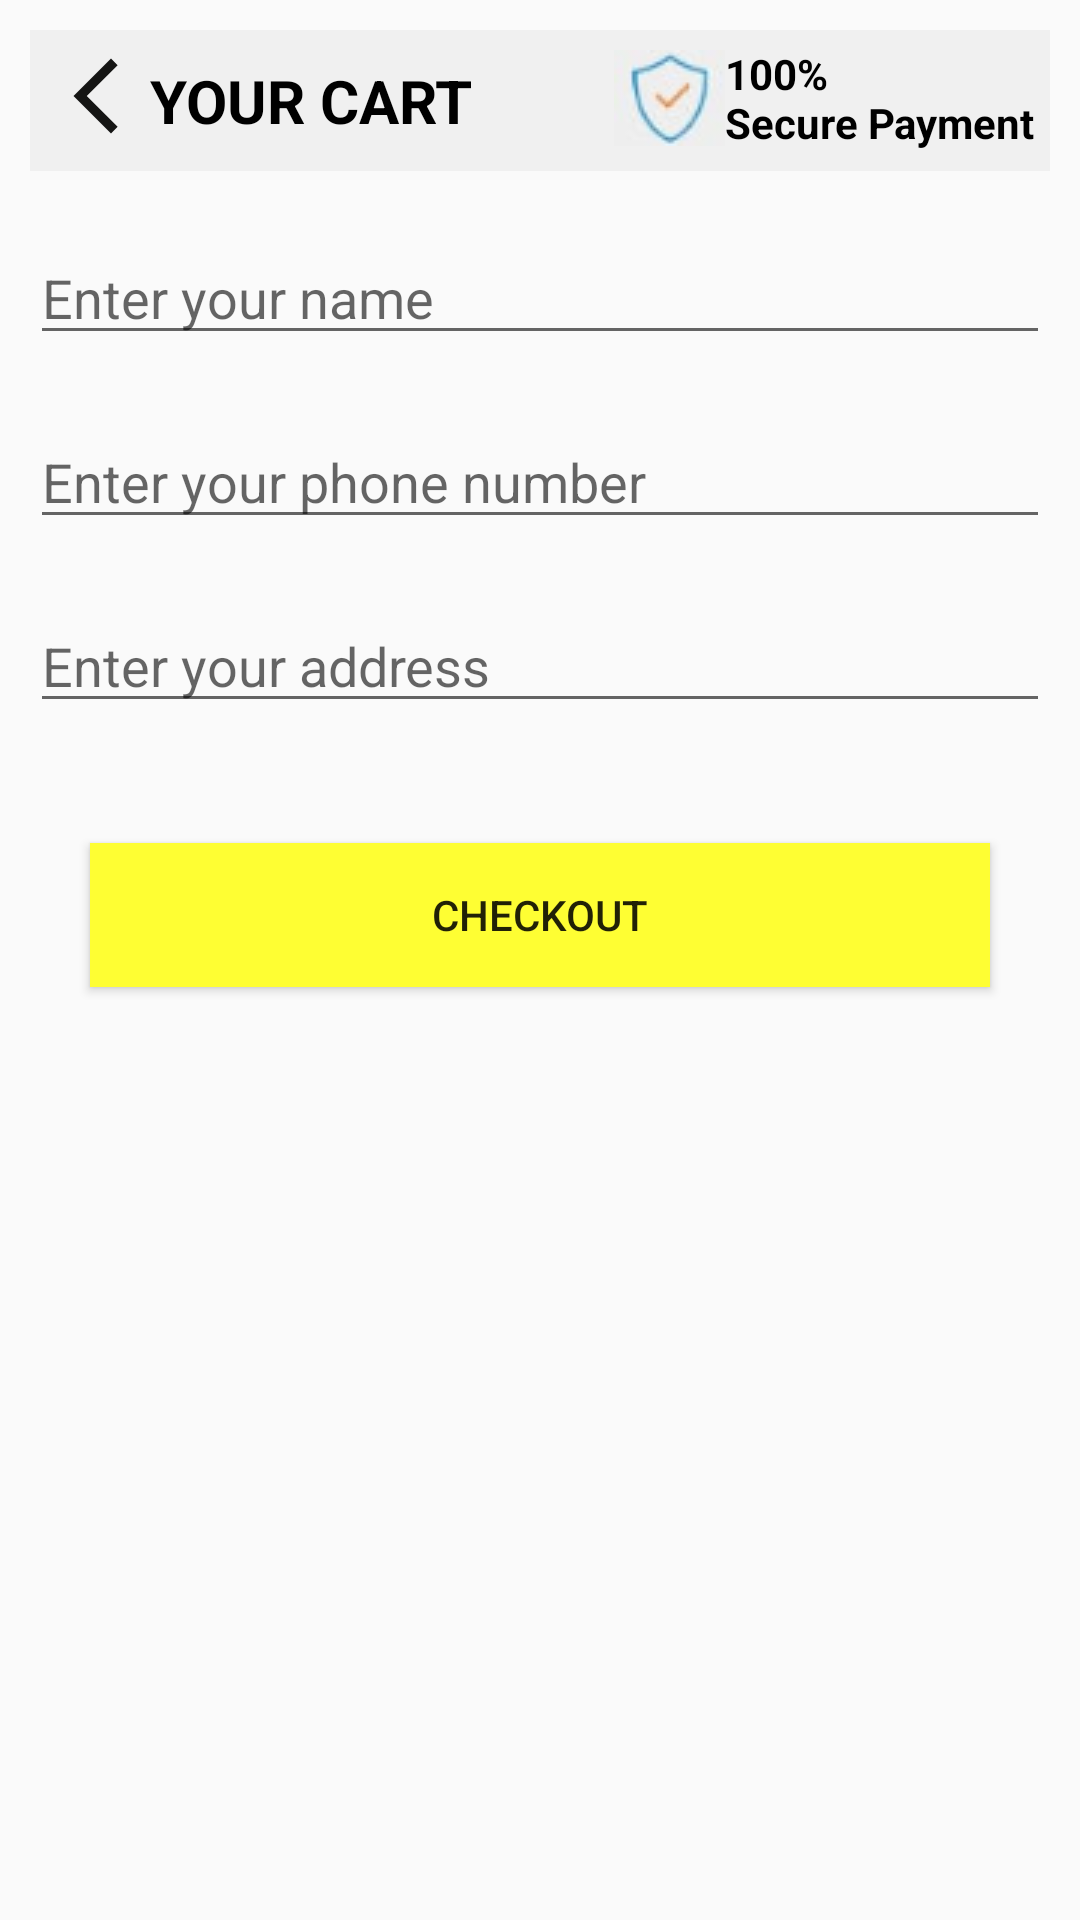

Icons on this 1080w x 1920h Android screen, each with its box as (x1, y1, x2, y2):
backarrow: (73, 58, 118, 134)
